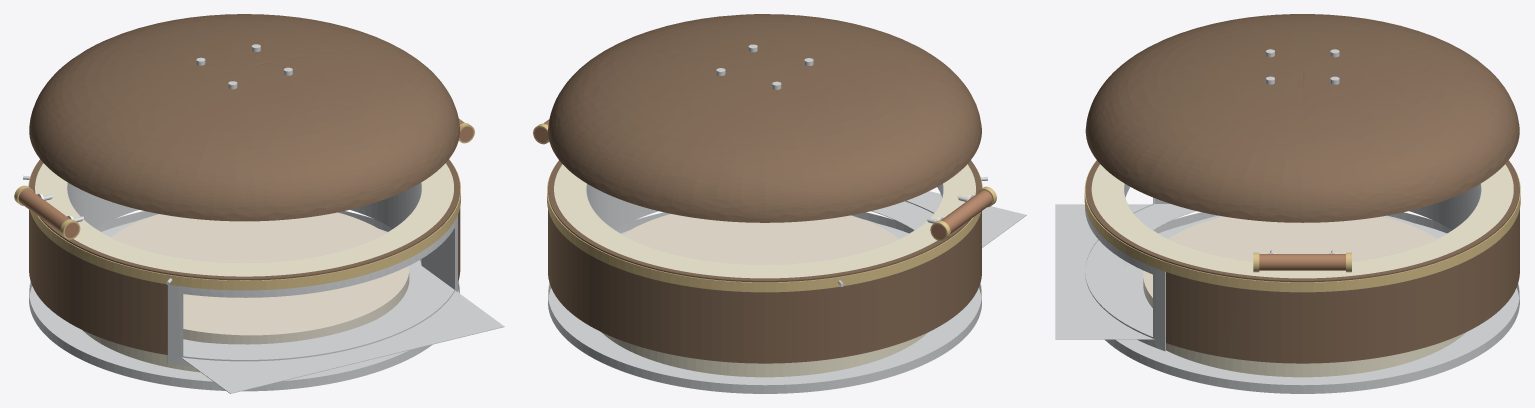
The model's file is morning-exploded.glb.
The picture shows the model from 3 angles, left to right: view 1: azimuth 30°, elevation 25°; view 2: azimuth 150°, elevation 25°; view 3: azimuth 270°, elevation 25°; orthographic projection.
Parts seen in each view (by area): view 1: outer_dome, floor_cordierite, outer_skirt, mouth_frame, wall_insulation, peel_landing, cinch_band, base_lip, base_pan, liner_skirt, handle_port, floor_insulation (+1 smaller); view 2: outer_dome, outer_skirt, floor_cordierite, wall_insulation, base_pan, base_lip, cinch_band, floor_insulation, liner_skirt, peel_landing, handle_port, mouth_frame; view 3: outer_dome, outer_skirt, wall_insulation, floor_cordierite, peel_landing, mouth_frame, base_pan, cinch_band, base_lip, floor_insulation, liner_skirt, handle_starboard (+1 smaller).
Boxes of the visible parts, x1,y1,x2,y2 form: outer_dome: (29, 14, 459, 221); floor_cordierite: (111, 212, 409, 344); outer_skirt: (29, 159, 460, 354); mouth_frame: (167, 215, 457, 366); wall_insulation: (35, 163, 453, 276); peel_landing: (181, 290, 504, 393); cinch_band: (28, 168, 460, 290); base_lip: (29, 211, 459, 390); base_pan: (29, 222, 458, 391); liner_skirt: (67, 182, 422, 264); handle_port: (18, 189, 78, 238); floor_insulation: (82, 263, 421, 372); outer_dome: (548, 14, 981, 222); outer_skirt: (548, 160, 981, 363); floor_cordierite: (623, 214, 898, 264); wall_insulation: (554, 164, 975, 278); base_pan: (548, 223, 981, 393); base_lip: (548, 212, 981, 393); cinch_band: (547, 166, 982, 292); floor_insulation: (602, 332, 927, 377); liner_skirt: (586, 183, 943, 264); peel_landing: (907, 191, 1026, 247); handle_port: (931, 190, 992, 239); mouth_frame: (871, 187, 942, 230); outer_dome: (1085, 14, 1519, 222); outer_skirt: (1085, 160, 1519, 363); wall_insulation: (1091, 164, 1513, 278); floor_cordierite: (1143, 216, 1436, 307); peel_landing: (1055, 204, 1154, 339); mouth_frame: (1085, 189, 1196, 351); base_pan: (1105, 223, 1519, 393); cinch_band: (1084, 166, 1520, 292); base_lip: (1105, 212, 1519, 393); floor_insulation: (1124, 265, 1466, 377); liner_skirt: (1124, 183, 1481, 261); handle_starboard: (1259, 254, 1345, 270).
Size of the model in its own units: 0.6301 by 0.3567 by 0.6129.
